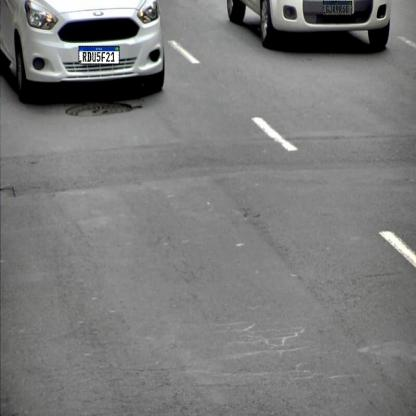PlacaM: (78, 46, 119, 64), (323, 1, 352, 15)
